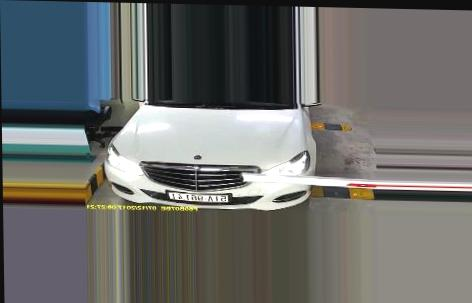License_Plate: (163, 191, 231, 205)
